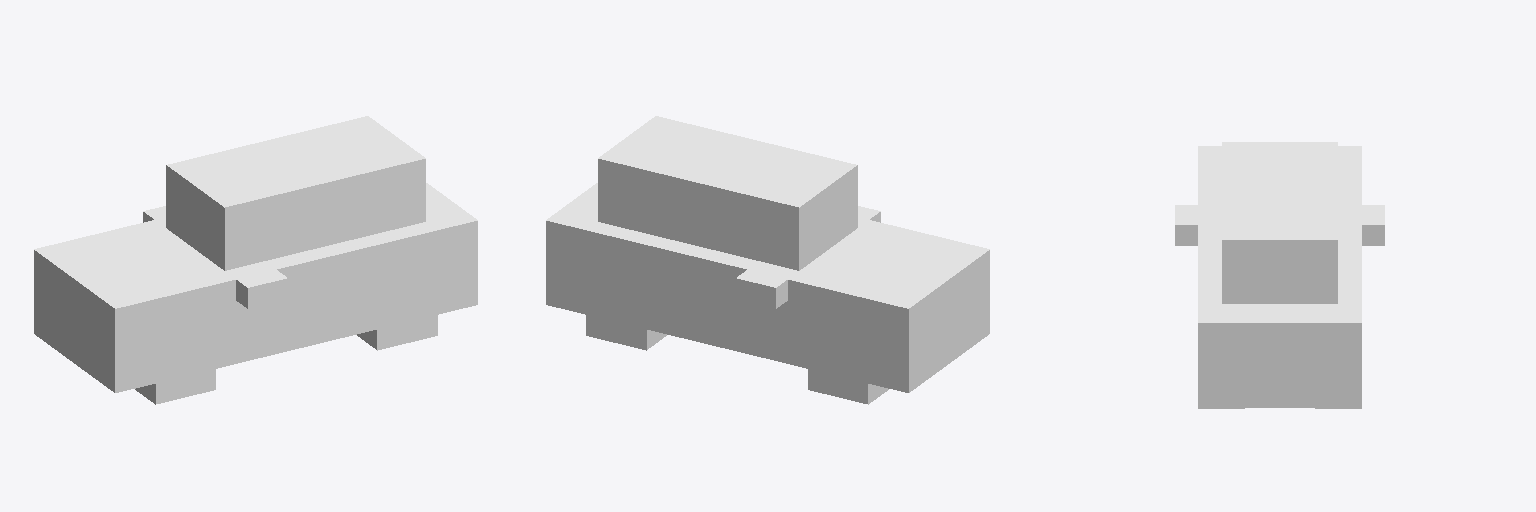
Rendered from SpeedCar.obj.
3 renders of one model, left to right at view 1: azimuth 30°, elevation 25°; view 2: azimuth 150°, elevation 25°; view 3: azimuth 270°, elevation 25°, orthographic.
Size of the model in its own units: 18 by 8 by 9.